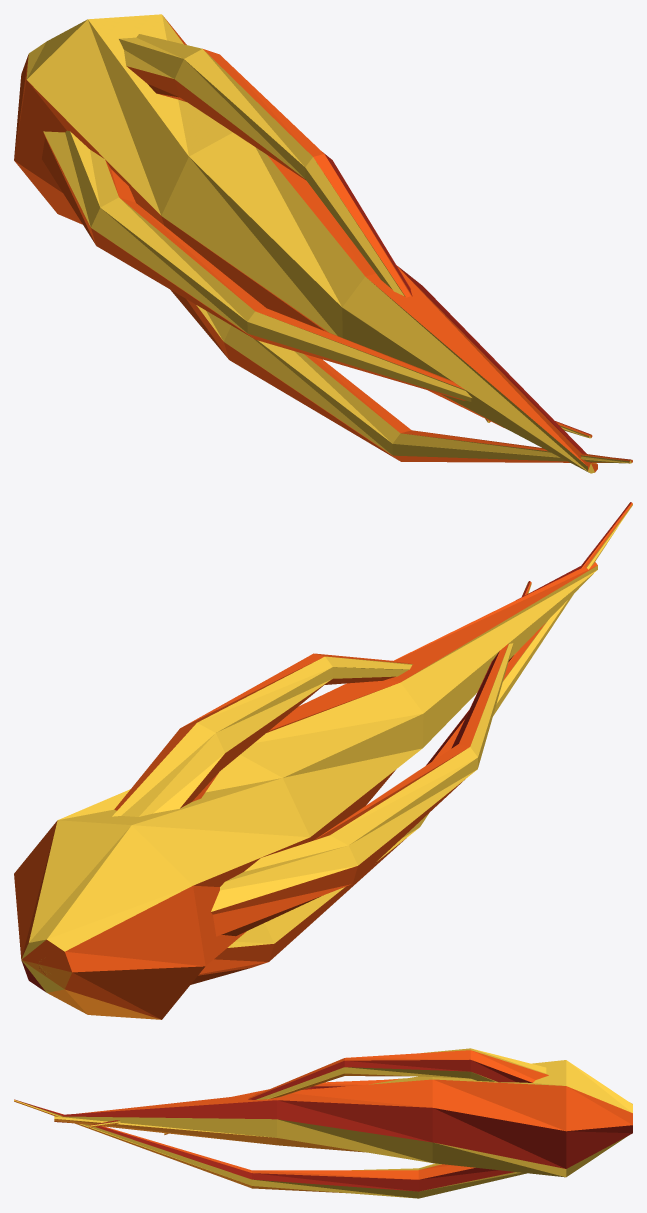
The model's file is fire_jab_volumetric.obj.
3 renders of one model, top to bottom at view 1: azimuth 30°, elevation 25°; view 2: azimuth 150°, elevation 25°; view 3: azimuth 270°, elevation 25°, orthographic. The views are drawn at different scales.
Visible parts, largest first — view 1: fire_core, flame_lobe_2, flame_lobe_1, flame_lobe_3; view 2: fire_core, flame_lobe_2, flame_lobe_1, flame_lobe_3; view 3: fire_core, flame_lobe_3, flame_lobe_1, flame_lobe_2.
Boxes of the visible parts, x1,y1,x2,y2 form: fire_core: [14, 14, 597, 473]; flame_lobe_2: [42, 130, 592, 438]; flame_lobe_1: [119, 34, 490, 422]; flame_lobe_3: [170, 289, 632, 463]; fire_core: [14, 562, 597, 1019]; flame_lobe_2: [211, 581, 531, 936]; flame_lobe_1: [38, 653, 412, 974]; flame_lobe_3: [190, 502, 632, 984]; fire_core: [54, 1060, 632, 1177]; flame_lobe_3: [14, 1099, 526, 1198]; flame_lobe_1: [164, 1048, 548, 1134]; flame_lobe_2: [89, 1078, 405, 1127].
Bounding box in the file's own units: 0.197 × 0.2294 × 0.8694.
Materials: 1 (1 with a texture image).
